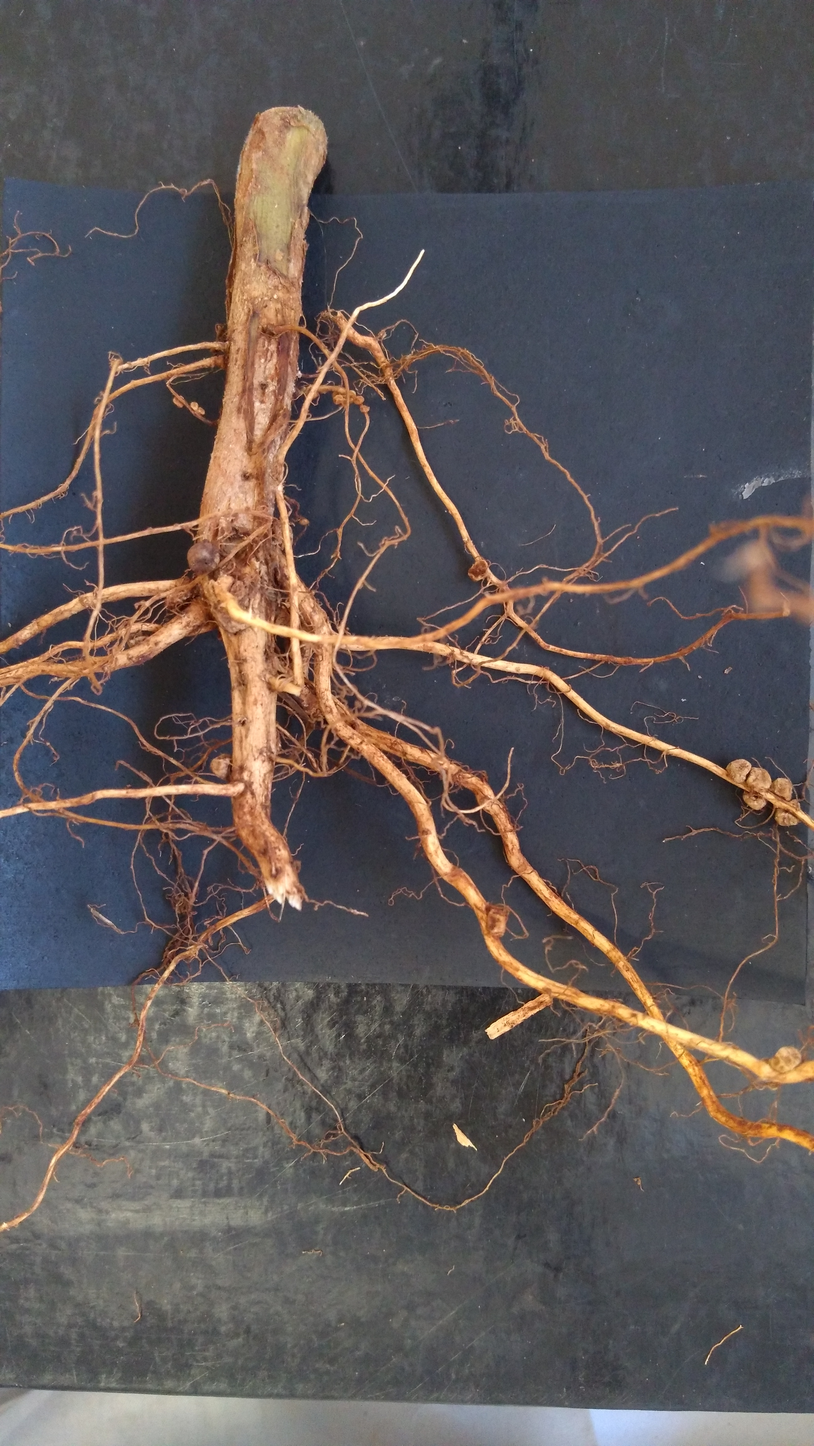nodule: (184, 534, 224, 580), (767, 1043, 806, 1080), (742, 765, 773, 811), (483, 901, 512, 944), (771, 802, 802, 830), (725, 755, 752, 785), (270, 518, 295, 548), (209, 754, 234, 783), (769, 774, 793, 802), (231, 512, 259, 535), (465, 558, 489, 583), (300, 384, 323, 403), (330, 387, 344, 406), (171, 394, 186, 410), (297, 516, 311, 528), (354, 393, 365, 406), (189, 400, 200, 412), (358, 404, 370, 415), (347, 388, 355, 404), (197, 406, 206, 416)
